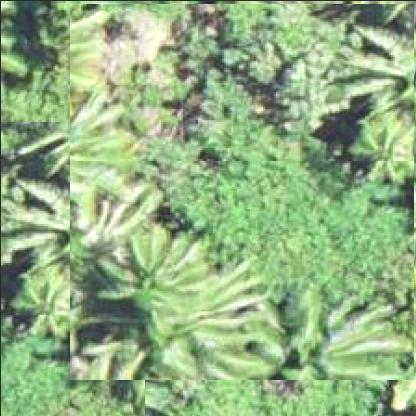coconut tree: (69, 2, 414, 379), (1, 119, 145, 415)
